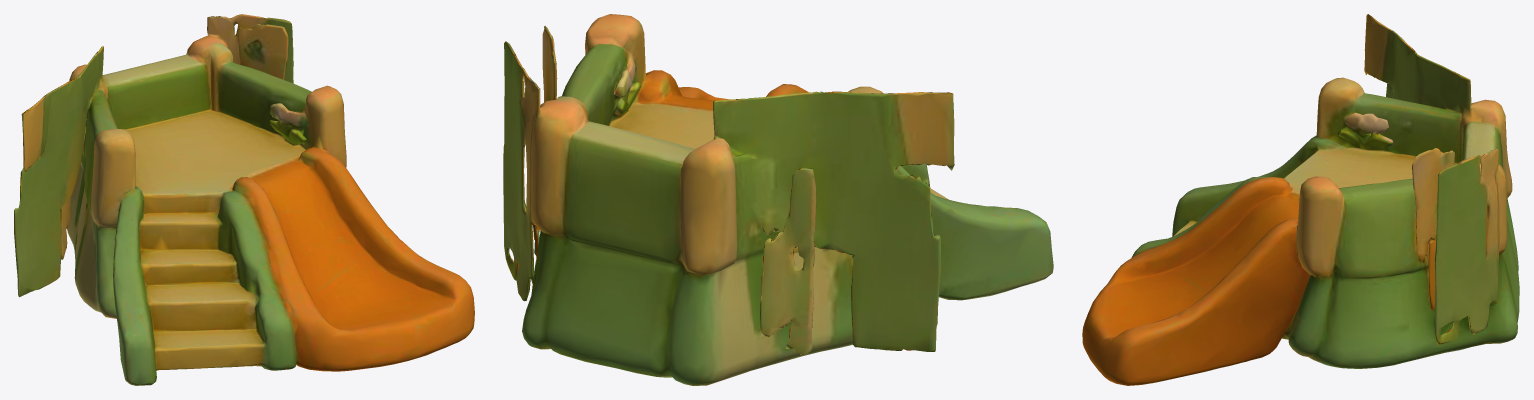
Rendered from slide.glb.
3 renders of one model, left to right at view 1: azimuth 30°, elevation 25°; view 2: azimuth 150°, elevation 25°; view 3: azimuth 270°, elevation 25°, orthographic. The views are drawn at different scales.
Parts seen in each view (by area): view 1: textured_mesh.obj; view 2: textured_mesh.obj; view 3: textured_mesh.obj.
Boxes of the visible parts, x1=… form: textured_mesh.obj: x1=14, y1=14, x2=474, y2=385; textured_mesh.obj: x1=503, y1=14, x2=1053, y2=385; textured_mesh.obj: x1=1082, y1=14, x2=1519, y2=385.
Size of what is drawn, in the model's own units: 3.29 by 2 by 3.7.
1 material, 1 textured.
